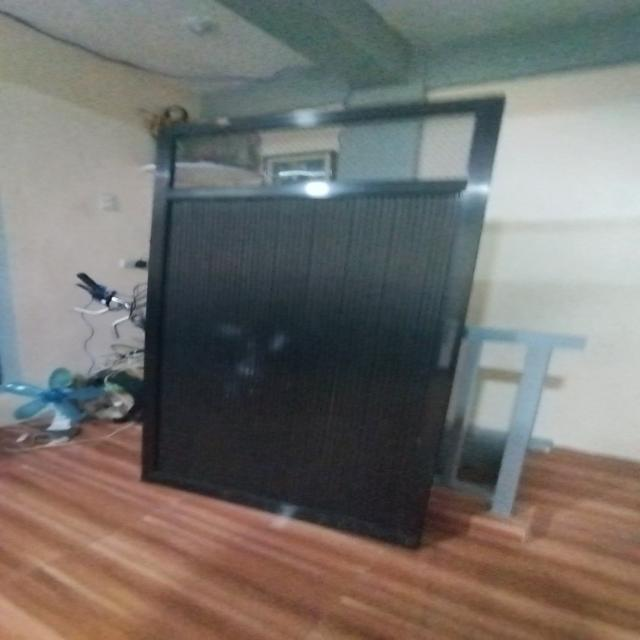door: (134, 91, 510, 548)
